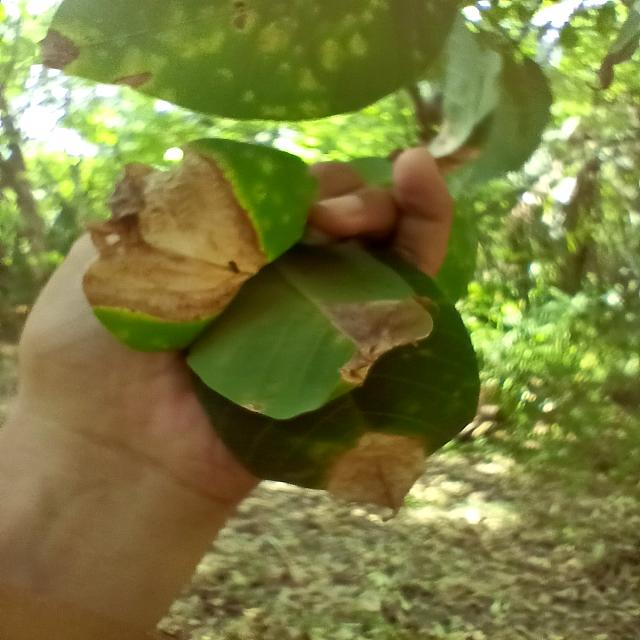Leaf-Blight: (81, 140, 271, 322), (320, 296, 434, 386), (326, 429, 430, 521)
